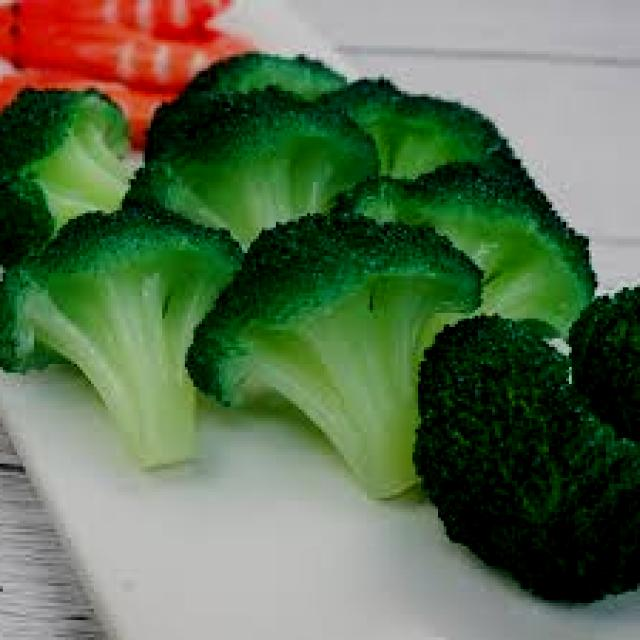broccoli: (153, 194, 481, 506), (3, 56, 570, 236), (0, 210, 246, 522), (435, 266, 640, 607)
